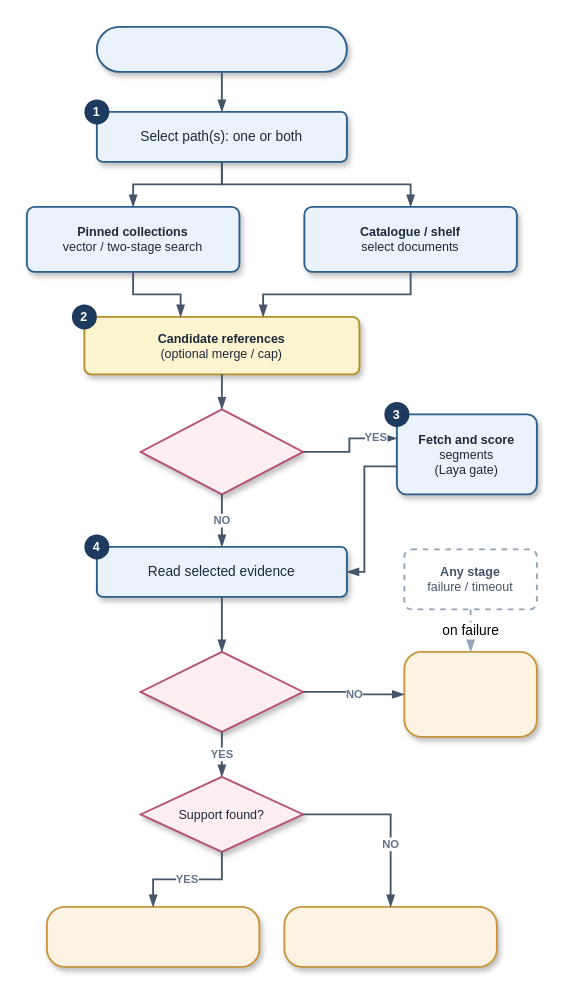
This 568x999 diagram has some shape labels left out. The centre of each missing label's shape, as x and y in pixels:
"Answer with source references" belongs at pixel 153 938.
"Incomplete review scope + available evidence" belongs at pixel 471 695.
"Question / query rewrite" belongs at pixel 222 50.
"Review complete?" belongs at pixel 222 693.
"Scoped not-found + blind spots" belongs at pixel 391 938.
"Use Laya gate?" belongs at pixel 222 453.
